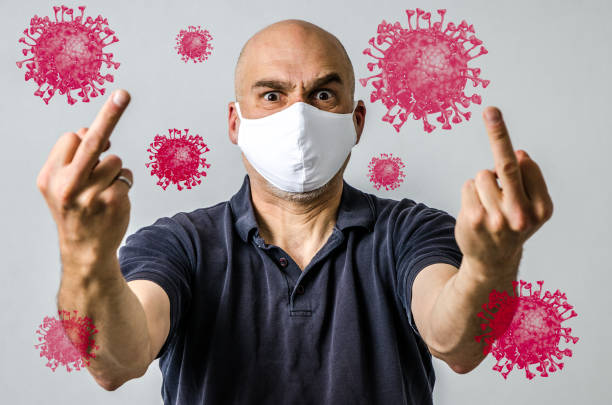insulting_gesture: (455, 105, 555, 276), (38, 88, 132, 249)
